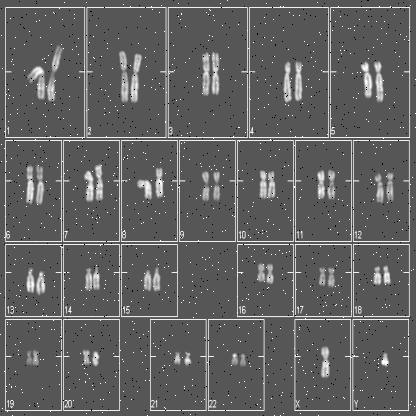1: (45, 41, 65, 106), (22, 64, 45, 106)
10: (256, 167, 269, 200), (268, 167, 280, 200)
11: (326, 166, 337, 202), (316, 167, 326, 202)
12: (373, 170, 386, 206), (386, 170, 399, 206)
13: (24, 263, 36, 294), (36, 263, 48, 294)
14: (82, 265, 94, 293), (93, 265, 104, 293)
15: (143, 266, 152, 294), (153, 266, 162, 294)
16: (266, 258, 276, 286), (257, 258, 266, 286)
17: (318, 264, 327, 290), (328, 264, 337, 290)
18: (382, 262, 392, 290), (373, 262, 382, 290)
19: (24, 346, 33, 370), (33, 346, 42, 370)
2: (116, 46, 130, 106), (130, 47, 144, 107)
20: (91, 348, 103, 369), (80, 348, 92, 368)
21: (172, 348, 183, 368), (184, 348, 194, 368)
22: (239, 346, 247, 370), (231, 348, 238, 372)
3: (211, 50, 220, 102), (202, 49, 210, 101)
4: (282, 58, 294, 106), (292, 58, 304, 106)
5: (358, 58, 374, 106), (374, 58, 388, 106)
6: (23, 160, 36, 209), (36, 160, 46, 209)
7: (82, 164, 94, 206), (94, 163, 106, 205)
8: (152, 162, 166, 201), (134, 176, 154, 200)
9: (211, 165, 222, 204), (200, 166, 211, 204)
X: (319, 342, 333, 382)
Y: (378, 349, 392, 372)
